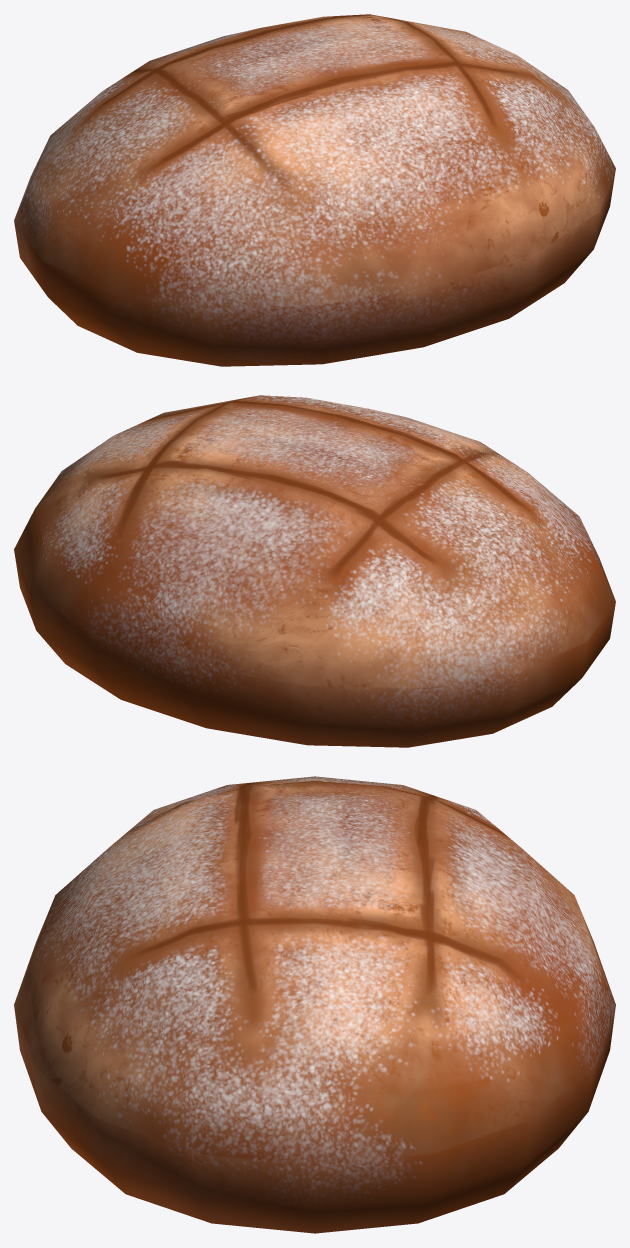
The model's file is Sourdough 1.fbx.
3 views of the same model, one above another, from view 1: azimuth 30°, elevation 25°; view 2: azimuth 150°, elevation 25°; view 3: azimuth 270°, elevation 25° (orthographic). The views are drawn at different scales.
Visible parts, largest first — view 1: Sourdough 1; view 2: Sourdough 1; view 3: Sourdough 1.
Boxes of the visible parts, x1,y1,x2,y2 form: Sourdough 1: (14,14,615,366); Sourdough 1: (14,395,615,747); Sourdough 1: (14,776,615,1233).
Bounding box in the file's own units: 0.4243 × 0.1845 × 0.336.
